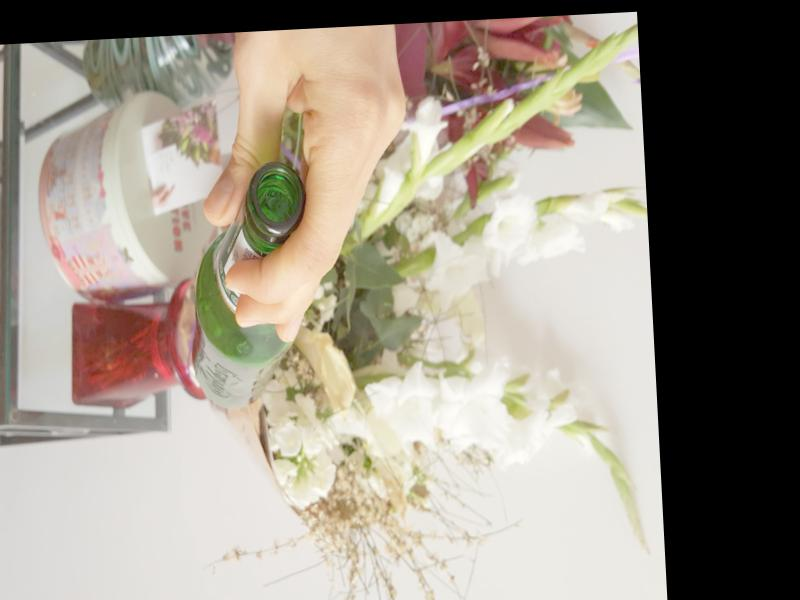Beer: (180, 161, 314, 411)
